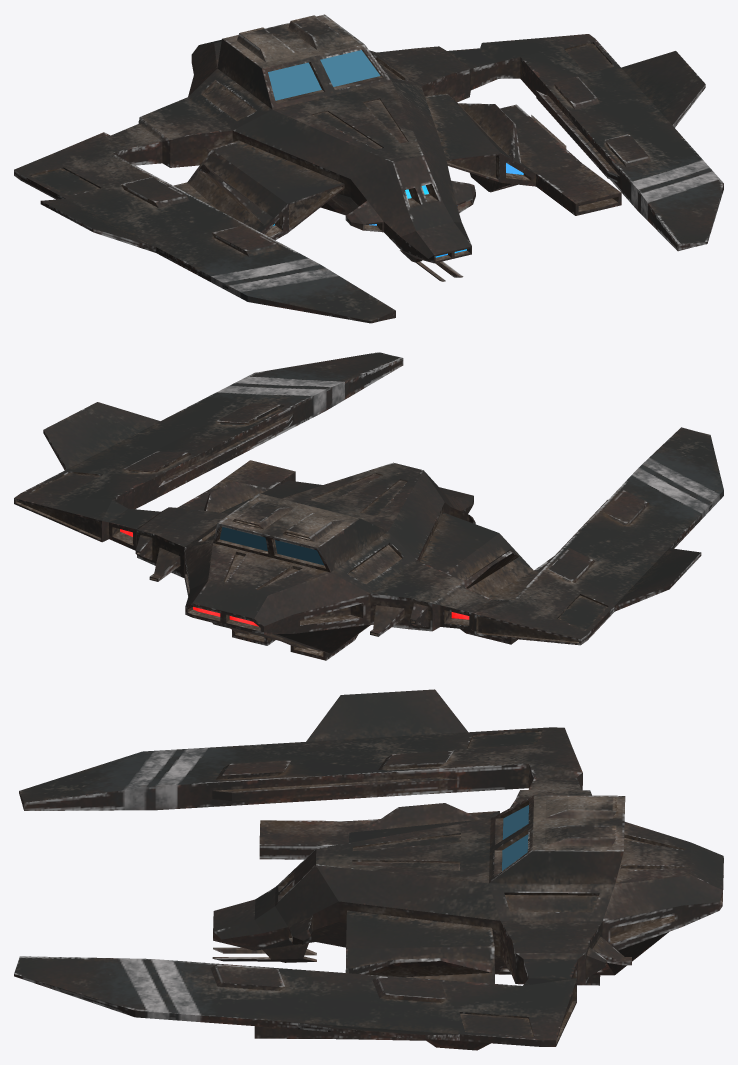
File: Fighter_01.gltf
The picture shows the model from 3 angles, top to bottom: view 1: azimuth 30°, elevation 25°; view 2: azimuth 150°, elevation 25°; view 3: azimuth 270°, elevation 25°; orthographic projection. The views are drawn at different scales.
Visible parts, largest first — view 1: Fighter_01_Griffin; view 2: Fighter_01_Griffin; view 3: Fighter_01_Griffin.
Part boxes in pixels (left/top/right/bottom): Fighter_01_Griffin: left=14, top=14, right=723, bottom=323; Fighter_01_Griffin: left=14, top=352, right=723, bottom=660; Fighter_01_Griffin: left=14, top=689, right=723, bottom=1050.
Size of the model in its own units: 13.04 by 2.5 by 11.35.
4 materials, 4 textured.
